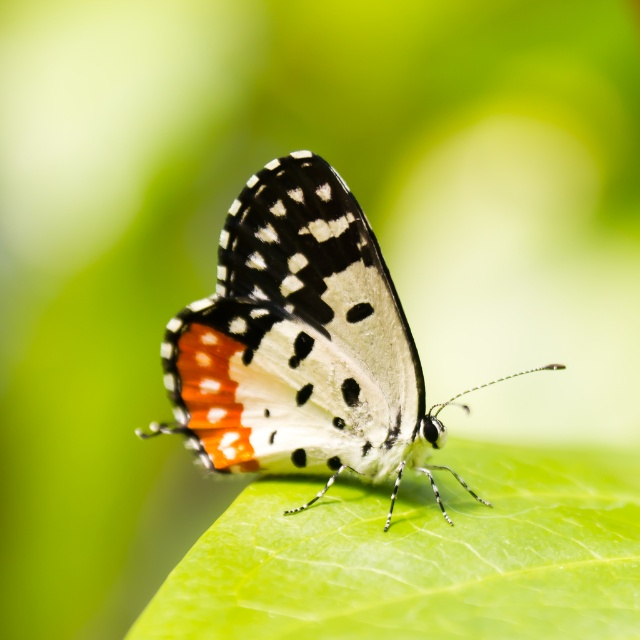Butterfly: (136, 146, 566, 531)
